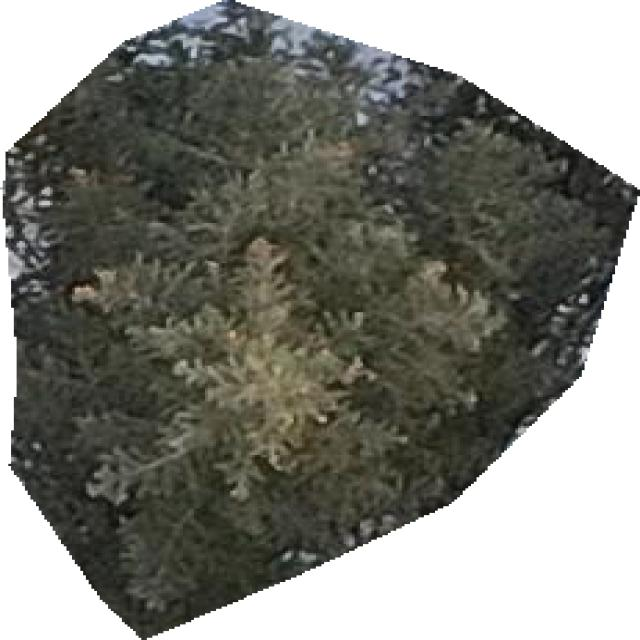spruce: (0, 0, 637, 638)
